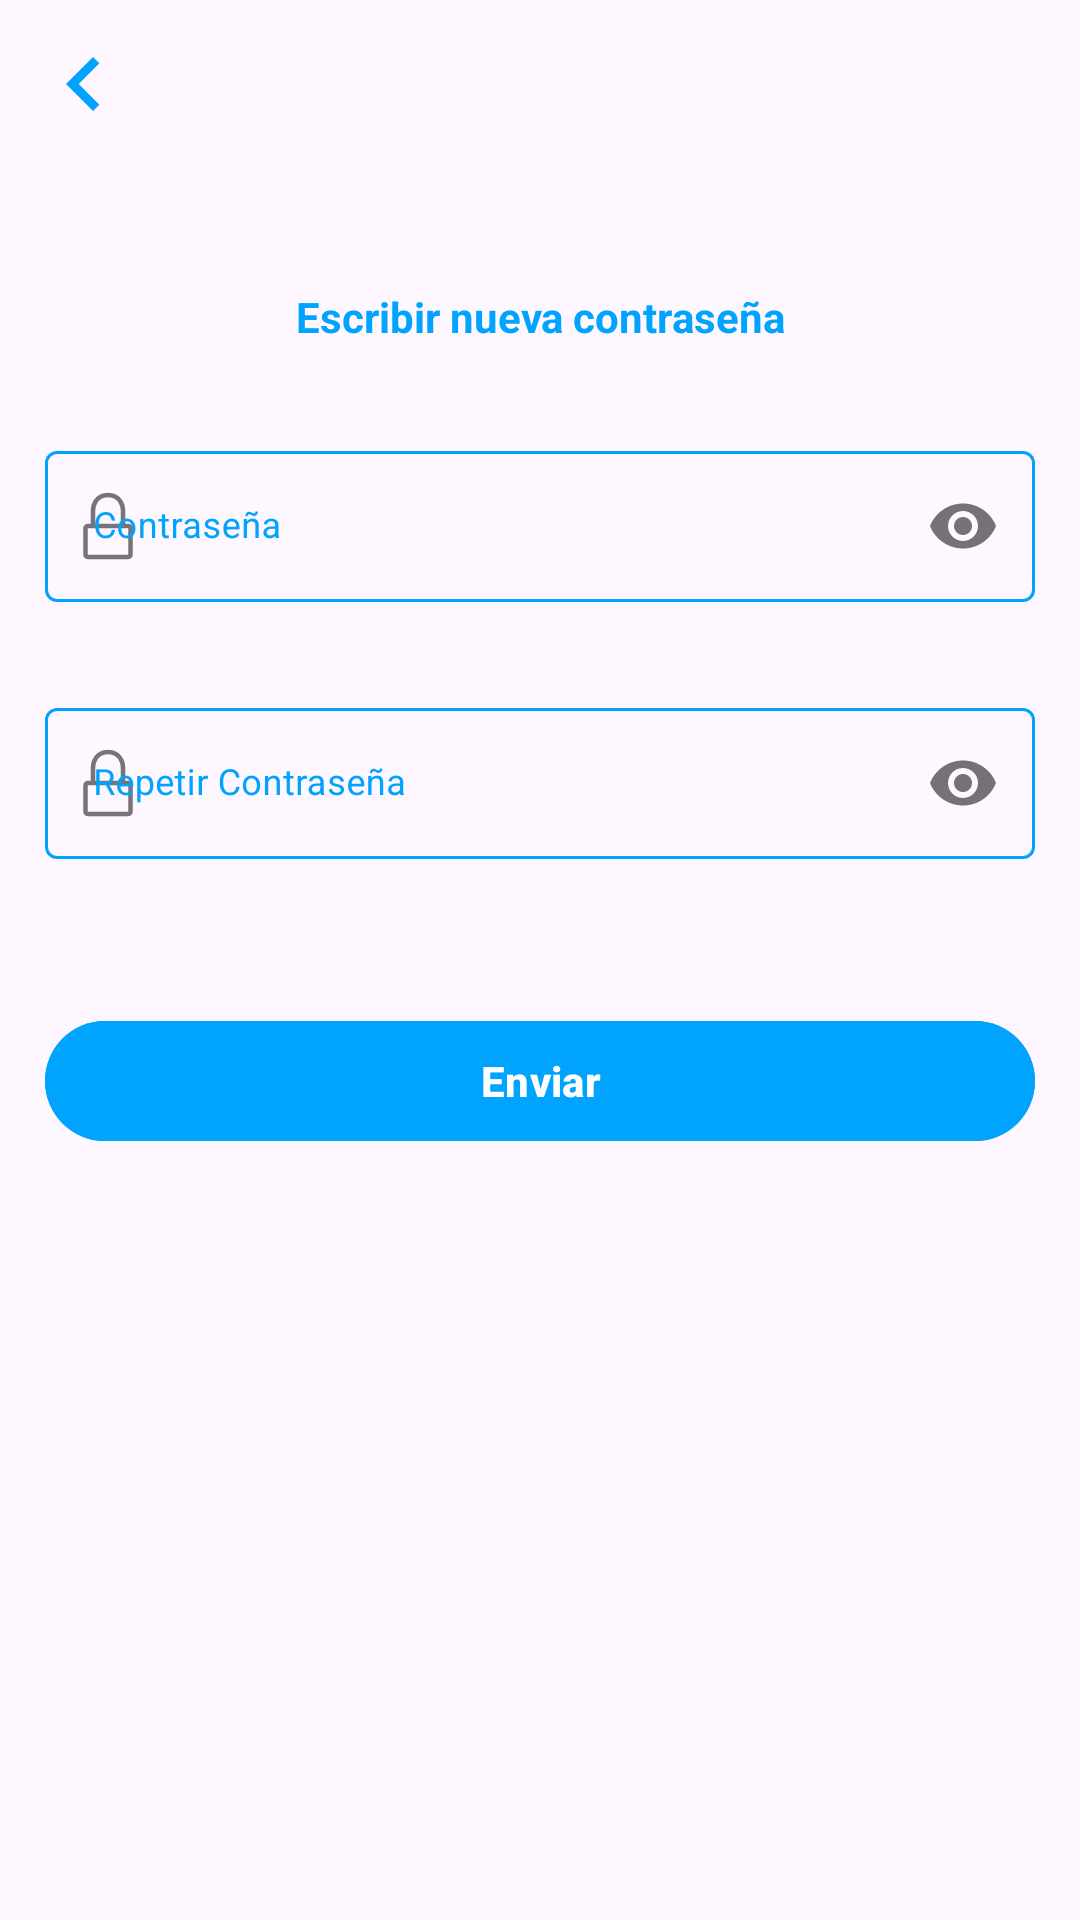

Locate icon controls on the screen. Image size 1080*1920, boxes as (x1, y1, x2, y2).
chevron left: (66, 57, 100, 111)
